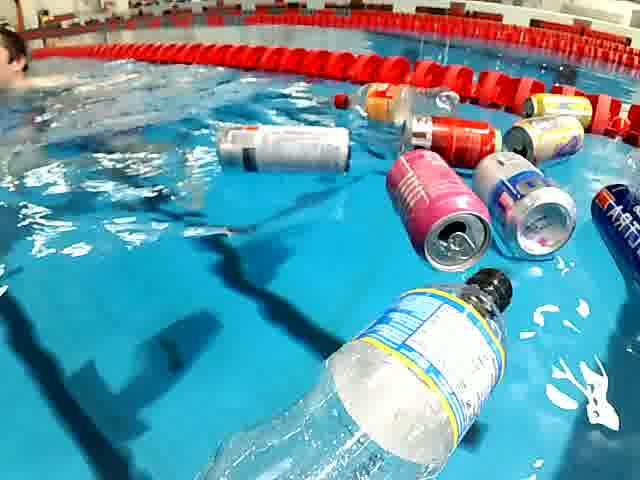Bottle: (185, 262, 514, 480), (328, 80, 468, 127)
Can: (383, 151, 500, 279), (474, 148, 586, 267), (206, 118, 361, 177), (397, 107, 507, 174), (581, 178, 640, 287), (501, 111, 586, 163), (514, 92, 596, 126)
